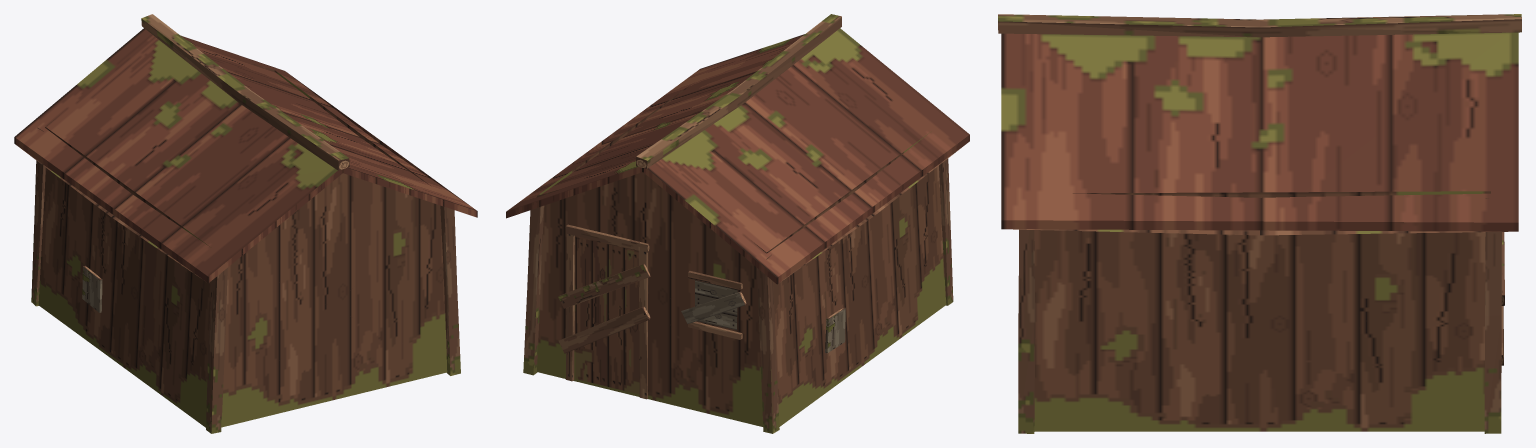
Rendered from SM_SP10_BoardedShed.fbx.
3 views of the same model, side by side, from view 1: azimuth 30°, elevation 25°; view 2: azimuth 150°, elevation 25°; view 3: azimuth 270°, elevation 25° (orthographic). The views are drawn at different scales.
Parts seen in each view (by area): view 1: SP10_Shell, SP10_Timber; view 2: SP10_Shell, SP10_Timber; view 3: SP10_Shell, SP10_Timber.
Part boxes in pixels (left/top/right/bottom): SP10_Shell: left=14, top=28, right=477, bottom=427; SP10_Timber: left=31, top=14, right=460, bottom=433; SP10_Shell: left=506, top=28, right=969, bottom=426; SP10_Timber: left=523, top=14, right=953, bottom=433; SP10_Shell: left=1001, top=32, right=1518, bottom=431; SP10_Timber: left=998, top=14, right=1521, bottom=433.
Bounding box in the file's own units: 3.8 × 3.37 × 4.76.
